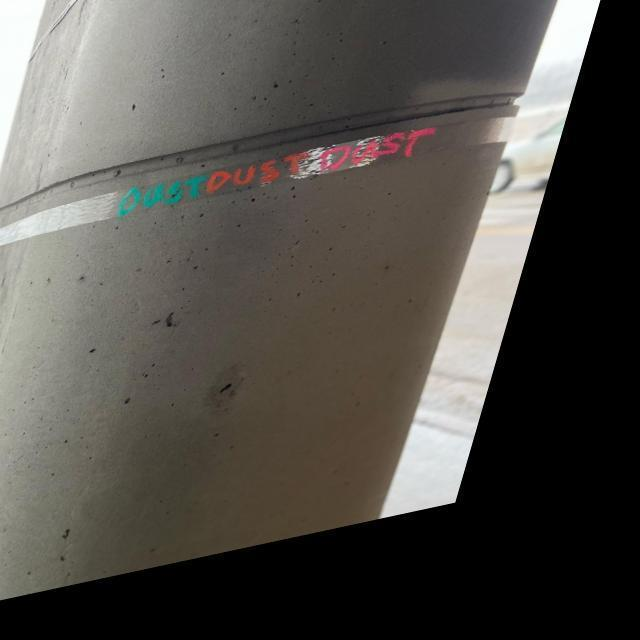-: (114, 126, 462, 248)
